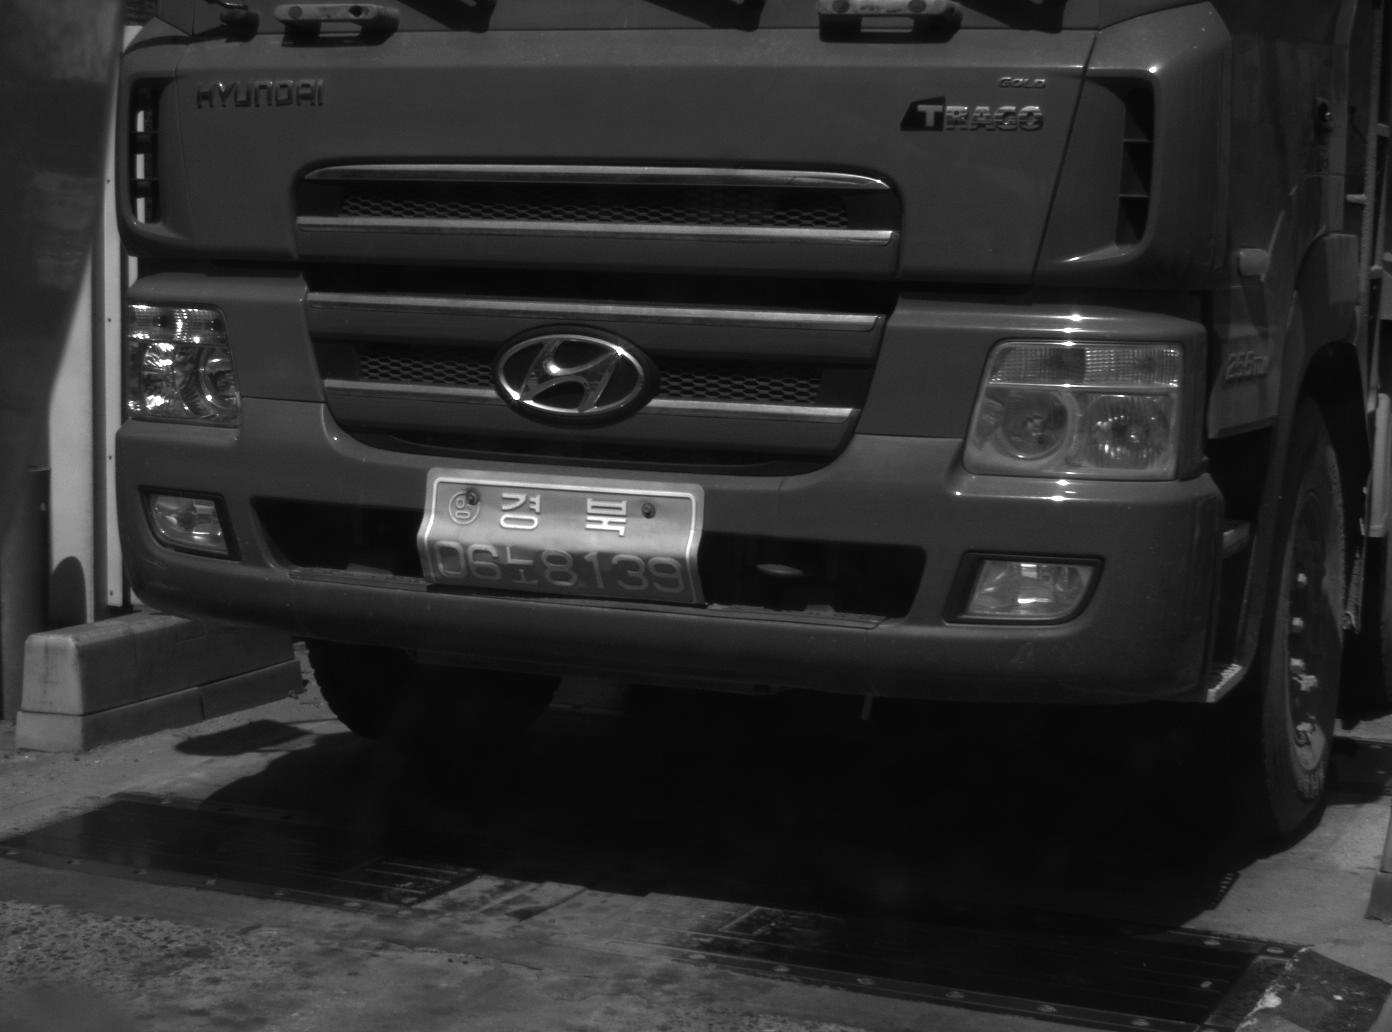car: (100, 1, 1392, 838)
plate: (423, 471, 702, 609)
